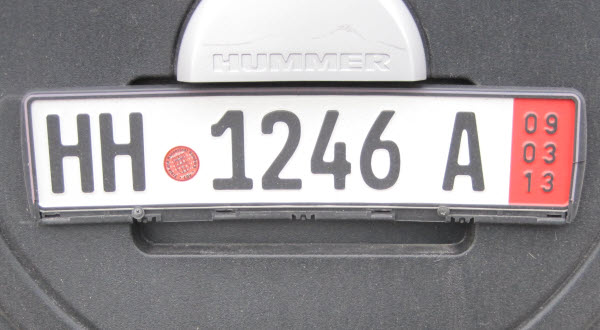license_plate: (25, 92, 580, 213)
